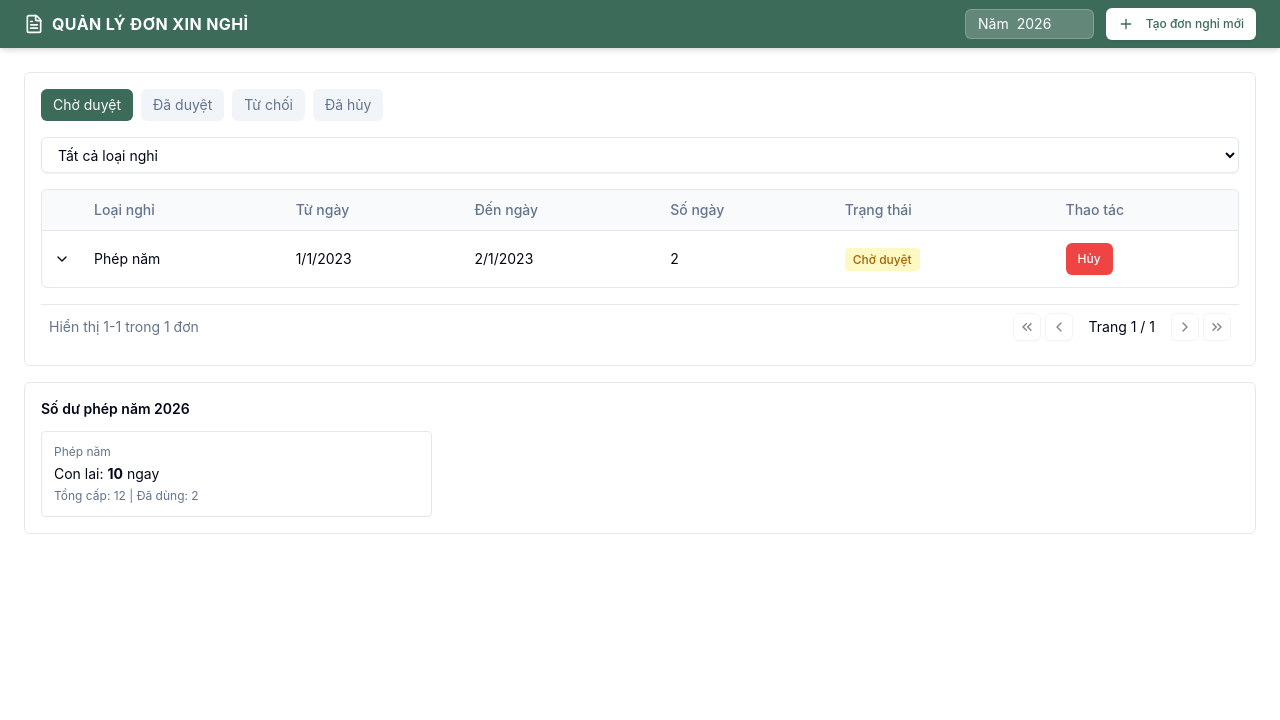
Test case: LeaveRequestPage › 2. Click "Tạo đơn mới" -> mở modal
The image size is (1280, 720).
Click the button "Tạo đơn nghỉ mới".
click(1181, 24)  # box [1106,8,1256,40]
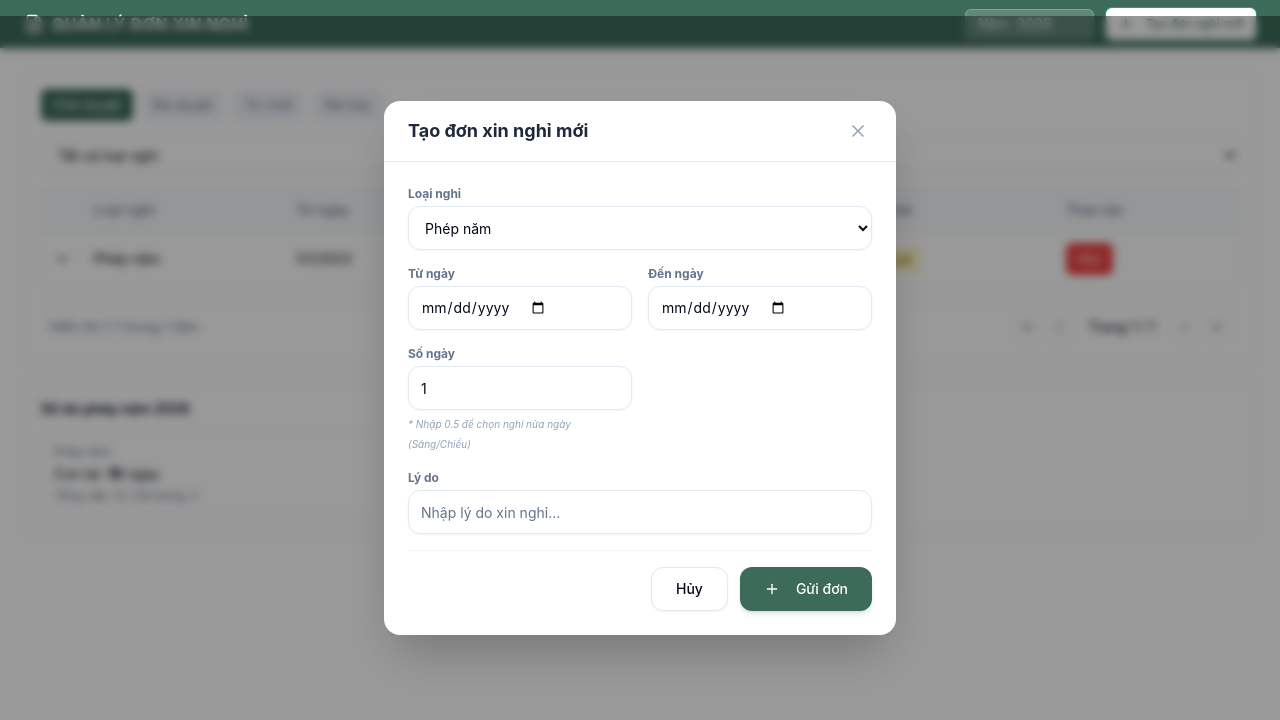
Result: the heading "Tạo đơn xin nghỉ mới" is shown at [408,117,588,145]
